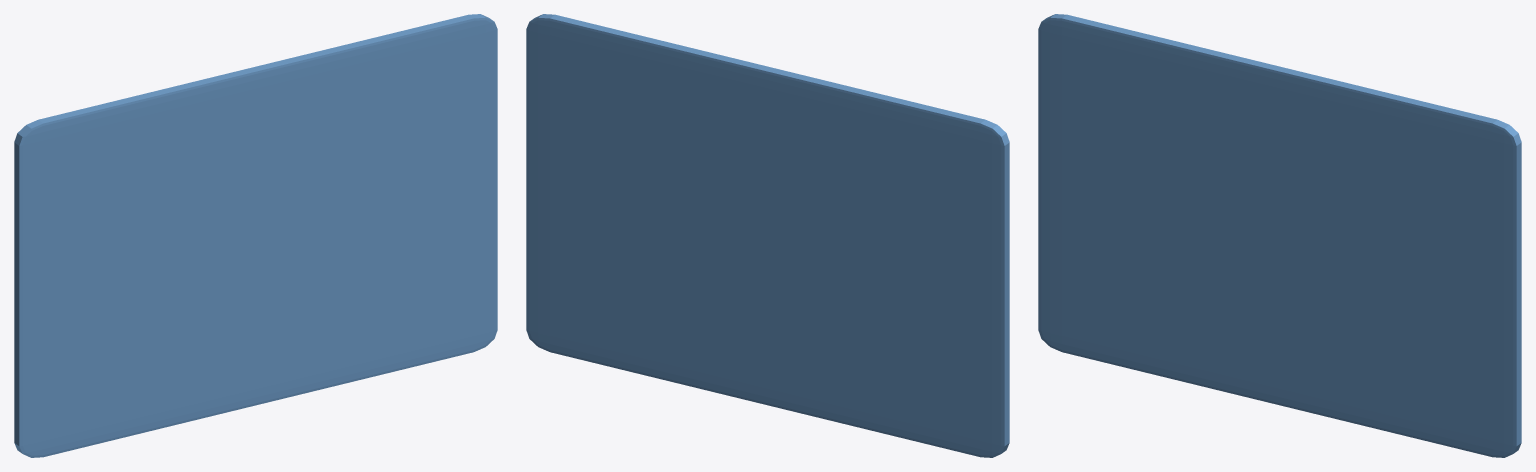
The model's file is spec sheet.fbx.
3 renders of one model, left to right at view 1: azimuth 30°, elevation 25°; view 2: azimuth 150°, elevation 25°; view 3: azimuth 330°, elevation 25°, orthographic.
Parts seen in each view (by area): view 1: Cube; view 2: Cube; view 3: Cube.
Boxes of the visible parts, box(x1,y1,x2,y2) form: Cube: box(14, 14, 497, 457); Cube: box(526, 14, 1009, 457); Cube: box(1038, 14, 1521, 457).
Bounding box in the file's own units: 48 × 32 × 1.
